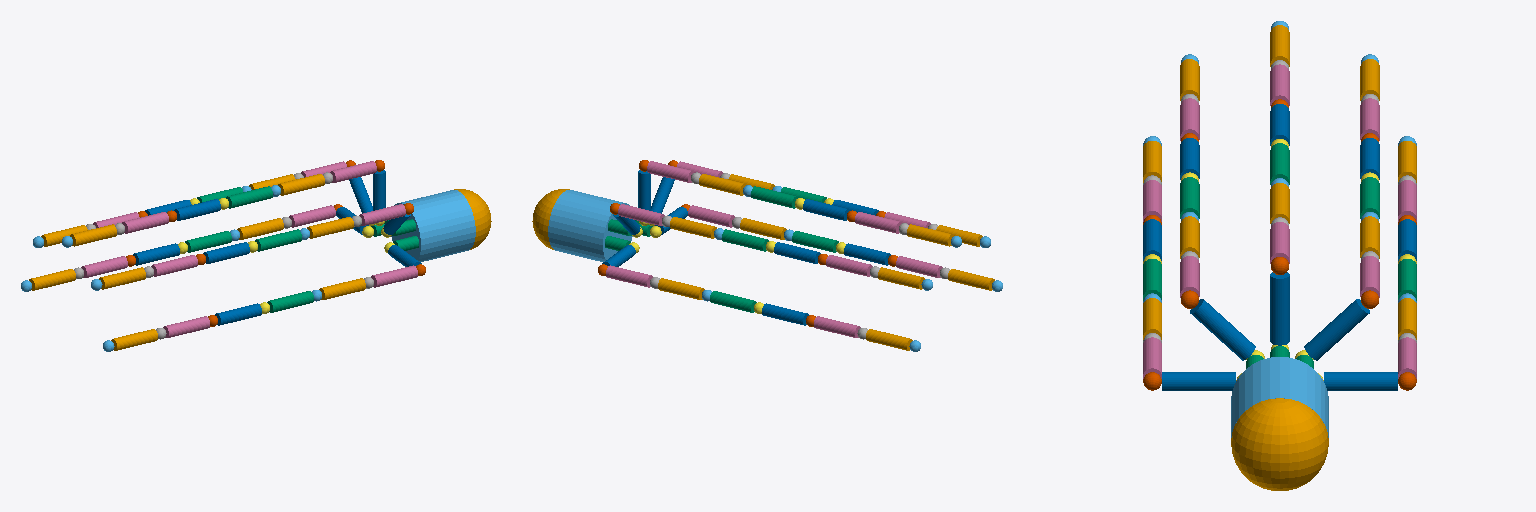
--- Facts derived from the render (not from the file) ---
3 views of the same robot in one strip: view 1: azimuth 30°, elevation 25°; view 2: azimuth 150°, elevation 25°; view 3: azimuth 270°, elevation 25° (orthographic).
Model sentinel/octopus_5_arms with 82 links and 81 joints (30 revolute, 51 fixed), rooted at eye, posed every joint at zero.
Links seen in each view (by area): view 1: head, eye, branch_01_cylinder, branch_23_cylinder, branch_33_cylinder, branch_04_cylinder, branch_36_cylinder, branch_41_cylinder, branch_26_cylinder, branch_32_cylinder, branch_43_cylinder, branch_44_cylinder (+14 smaller); view 2: head, eye, branch_13_cylinder, branch_23_cylinder, branch_41_cylinder, branch_01_cylinder, branch_16_cylinder, branch_44_cylinder, branch_03_cylinder, branch_04_cylinder, branch_12_cylinder, branch_26_cylinder (+14 smaller); view 3: eye, head, branch_10_cylinder, branch_30_cylinder, branch_20_cylinder, branch_00_cylinder, branch_40_cylinder, branch_23_cylinder, branch_26_cylinder, branch_13_cylinder, branch_16_cylinder, branch_33_cylinder (+25 smaller).
Link boxes in pixels (x1,y1,x2,y2): head: (391,190,475,261); eye: (454,189,491,249); branch_01_cylinder: (289,205,335,227); branch_23_cylinder: (226,186,272,208); branch_33_cylinder: (255,229,301,251); branch_04_cylinder: (133,243,179,265); branch_36_cylinder: (99,267,145,289); branch_41_cylinder: (371,265,417,287); branch_26_cylinder: (70,224,116,246); branch_32_cylinder: (307,217,353,238); branch_43_cylinder: (267,291,313,312); branch_44_cylinder: (215,303,261,325); head: (548,190,632,261); eye: (532,189,569,249); branch_13_cylinder: (722,229,768,251); branch_23_cylinder: (751,186,797,208); branch_41_cylinder: (688,205,734,227); branch_01_cylinder: (606,265,652,287); branch_16_cylinder: (878,267,924,289); branch_44_cylinder: (844,243,890,265); branch_03_cylinder: (710,291,756,312); branch_04_cylinder: (762,303,808,325); branch_12_cylinder: (670,217,716,238); branch_26_cylinder: (907,224,953,246); eye: (1231,398,1328,490); head: (1231,357,1328,437); branch_10_cylinder: (1304,299,1369,360); branch_30_cylinder: (1190,299,1255,360); branch_20_cylinder: (1270,272,1289,345); branch_00_cylinder: (1324,372,1397,390); branch_40_cylinder: (1162,372,1235,390); branch_23_cylinder: (1270,143,1289,184); branch_26_cylinder: (1270,25,1289,66); branch_13_cylinder: (1360,177,1379,218); branch_16_cylinder: (1360,59,1379,100); branch_33_cylinder: (1180,177,1199,218).
Bounding box of the posed robot: 1.55 × 0.56 × 0.3801 m (x, y, z).
Geometry: primitives only (box / cylinder / sphere), no mesh files.

The robot description file, URDF, robot "sentinel/octopus_5_arms":
<?xml version="1.0"?>
<robot name="sentinel/octopus_5_arms">
<link name="eye">
  <inertial>
   <mass value="1"/>
   <inertia ixx="0.004000000000000001" ixy="0" ixz="0" iyy="0.004000000000000001" iyz="0" izz="0.004000000000000001"/>
  </inertial>
  <collision>
    <origin rpy="0 0 0" xyz="0 0 0"/>
    <geometry>
      <sphere radius="0.1"/>
    </geometry>
  </collision>
  <visual>
    <origin rpy="0 0 0" xyz="0 0 0"/>
    <geometry>
      <sphere radius="0.1"/>
    </geometry>
  </visual>
</link>

 <link name="head">
  <inertial>
    <mass value="1"/>
    <inertia ixx="0.0058333333333333345" ixy="0" ixz="0" iyy="0.0058333333333333345" iyz="0" izz="0.0025000000000000005"/>
  </inertial>
  <visual>
    <origin rpy="0 1.57 0" xyz="-0.1 0 0"/>
    <geometry>
      <cylinder length="0.2" radius="0.1"/>
    </geometry>
  </visual>
  <collision>
    <origin rpy="0 1.57 0" xyz="-0.1 0 0"/>
    <geometry>
      <cylinder length="0.2" radius="0.1"/>
    </geometry>
  </collision>
 </link>

<joint name="joint_fixed_eye_head" type="fixed">
  <origin rpy="0 0 0" xyz="0 0 0"/>
  <parent link="eye"/>
  <child link="head"/>
</joint>

<!--############################################################################
branch_00
##############################################################################-->
 <link name="branch_00_cylinder_stub">
  <inertial>
    <mass value="1"/>
    <inertia ixx="0.0005687499999999999" ixy="0" ixz="0" iyy="0.0005687499999999999" iyz="0" izz="0.0001"/>
  </inertial>
  <visual>
    <origin rpy="0 1.57 0" xyz="-0.0375 0 0"/>
    <geometry>
      <cylinder length="0.075" radius="0.02"/>
    </geometry>
  </visual>
  <collision>
    <origin rpy="0 1.57 0" xyz="-0.0375 0 0"/>
    <geometry>
      <cylinder length="0.075" radius="0.02"/>
    </geometry>
  </collision>
 </link>

<joint name="joint_fixed_head_branch_00_cylinder_stub" type="fixed">
  <origin rpy="0 0 0" xyz="-0.2 0.06999999999999999 0.0"/>
  <parent link="head"/>
  <child link="branch_00_cylinder_stub"/>
</joint>

<link name="branch_00_sphere_stub">
  <inertial>
   <mass value="1"/>
   <inertia ixx="0.00014439999999999999" ixy="0" ixz="0" iyy="0.00014439999999999999" iyz="0" izz="0.00014439999999999999"/>
  </inertial>
  <collision>
    <origin rpy="0 0 0" xyz="-0.095 0 0"/>
    <geometry>
      <sphere radius="0.019"/>
    </geometry>
  </collision>
  <visual>
    <origin rpy="0 0 0" xyz="-0.095 0 0"/>
    <geometry>
      <sphere radius="0.019"/>
    </geometry>
  </visual>
</link>

<joint name="joint_fixed_branch_00_cylinder_stub_branch_00_sphere_stub" type="fixed">
  <origin rpy="0 0 0" xyz="0 0 0"/>
  <parent link="branch_00_cylinder_stub"/>
  <child link="branch_00_sphere_stub"/>
</joint>

 <link name="branch_00_cylinder">
  <inertial>
    <mass value="1"/>
    <inertia ixx="0.0019749999999999998" ixy="0" ixz="0" iyy="0.0019749999999999998" iyz="0" izz="0.0001"/>
  </inertial>
  <visual>
    <origin rpy="0 1.5707963267948966 1.57" xyz="-0.095 0.095 0.0"/>
    <geometry>
      <cylinder length="0.15" radius="0.02"/>
    </geometry>
  </visual>
  <collision>
    <origin rpy="0 1.5707963267948966 1.57" xyz="-0.095 0.095 0.0"/>
    <geometry>
      <cylinder length="0.15" radius="0.02"/>
    </geometry>
  </collision>
 </link>

<joint name="joint_fixed_branch_00_sphere_stub_branch_00_cylinder" type="fixed">
  <origin rpy="0 0 0" xyz="0 0 0"/>
  <parent link="branch_00_sphere_stub"/>
  <child link="branch_00_cylinder"/>
</joint>

<link name="branch_00">
  <inertial>
   <mass value="1"/>
   <inertia ixx="0.00014439999999999999" ixy="0" ixz="0" iyy="0.00014439999999999999" iyz="0" izz="0.00014439999999999999"/>
  </inertial>
  <collision>
    <origin rpy="0 0 0" xyz="0 0 0"/>
    <geometry>
      <sphere radius="0.019"/>
    </geometry>
  </collision>
  <visual>
    <origin rpy="0 0 0" xyz="0 0 0"/>
    <geometry>
      <sphere radius="0.019"/>
    </geometry>
  </visual>
</link>

<joint name="joint_fixed_branch_00_cylinder_branch_00" type="fixed">
  <origin rpy="0 0 0" xyz="-0.095 0.19 0.0"/>
  <parent link="branch_00_cylinder"/>
  <child link="branch_00"/>
</joint>

<!--############################################################################
branch_01
##############################################################################-->
 <link name="branch_01_cylinder">
  <inertial>
    <mass value="1"/>
    <inertia ixx="0.0019749999999999998" ixy="0" ixz="0" iyy="0.0019749999999999998" iyz="0" izz="0.0001"/>
  </inertial>
  <visual>
    <origin rpy="0 1.57 0" xyz="-0.095 0 0"/>
    <geometry>
      <cylinder length="0.15" radius="0.02"/>
    </geometry>
  </visual>
  <collision>
    <origin rpy="0 1.57 0" xyz="-0.095 0 0"/>
    <geometry>
      <cylinder length="0.15" radius="0.02"/>
    </geometry>
  </collision>
 </link>

<joint name="joint_revolute_branch_00_branch_01_cylinder_Z" type="revolute">
  <origin rpy="0 0 0" xyz="0 0 0"/>
  <parent link="branch_00"/>
  <child link="branch_01_cylinder"/>
  <axis xyz="0 0.0 -1.0"/>
  <dynamics damping="0.01" friction="0.5"/>
  <limit lower="-1.5707963267948966" upper="1.5707963267948966" effort="0.01" velocity="100"/>
</joint>

<link name="branch_01">
  <inertial>
   <mass value="1"/>
   <inertia ixx="0.00014439999999999999" ixy="0" ixz="0" iyy="0.00014439999999999999" iyz="0" izz="0.00014439999999999999"/>
  </inertial>
  <collision>
    <origin rpy="0 0 0" xyz="0 0 0"/>
    <geometry>
      <sphere radius="0.019"/>
    </geometry>
  </collision>
  <visual>
    <origin rpy="0 0 0" xyz="0 0 0"/>
    <geometry>
      <sphere radius="0.019"/>
    </geometry>
  </visual>
</link>

<joint name="joint_fixed_branch_01_cylinder_branch_01" type="fixed">
  <origin rpy="0 0 0" xyz="-0.19 0 0"/>
  <parent link="branch_01_cylinder"/>
  <child link="branch_01"/>
</joint>

<!--############################################################################
branch_02
##############################################################################-->
 <link name="branch_02_cylinder">
  <inertial>
    <mass value="1"/>
    <inertia ixx="0.0019749999999999998" ixy="0" ixz="0" iyy="0.0019749999999999998" iyz="0" izz="0.0001"/>
  </inertial>
  <visual>
    <origin rpy="0 1.57 0" xyz="-0.095 0 0"/>
    <geometry>
      <cylinder length="0.15" radius="0.02"/>
    </geometry>
  </visual>
  <collision>
    <origin rpy="0 1.57 0" xyz="-0.095 0 0"/>
    <geometry>
      <cylinder length="0.15" radius="0.02"/>
    </geometry>
  </collision>
 </link>

<joint name="joint_revolute_branch_01_branch_02_cylinder_Z" type="revolute">
  <origin rpy="0 0 0" xyz="0 0 0"/>
  <parent link="branch_01"/>
  <child link="branch_02_cylinder"/>
  <axis xyz="0 0.0 -1.0"/>
  <dynamics damping="0.01" friction="0.5"/>
  <limit lower="-1.5707963267948966" upper="1.5707963267948966" effort="0.01" velocity="100"/>
</joint>

<link name="branch_02">
  <inertial>
   <mass value="1"/>
   <inertia ixx="0.00014439999999999999" ixy="0" ixz="0" iyy="0.00014439999999999999" iyz="0" izz="0.00014439999999999999"/>
  </inertial>
  <collision>
    <origin rpy="0 0 0" xyz="0 0 0"/>
    <geometry>
      <sphere radius="0.019"/>
    </geometry>
  </collision>
  <visual>
    <origin rpy="0 0 0" xyz="0 0 0"/>
    <geometry>
      <sphere radius="0.019"/>
    </geometry>
  </visual>
</link>

<joint name="joint_fixed_branch_02_cylinder_branch_02" type="fixed">
  <origin rpy="0 0 0" xyz="-0.19 0 0"/>
  <parent link="branch_02_cylinder"/>
  <child link="branch_02"/>
</joint>

<!--############################################################################
branch_03
##############################################################################-->
 <link name="branch_03_cylinder">
  <inertial>
    <mass value="1"/>
    <inertia ixx="0.0019749999999999998" ixy="0" ixz="0" iyy="0.0019749999999999998" iyz="0" izz="0.0001"/>
  </inertial>
  <visual>
    <origin rpy="0 1.57 0" xyz="-0.095 0 0"/>
    <geometry>
      <cylinder length="0.15" radius="0.02"/>
    </geometry>
  </visual>
  <collision>
    <origin rpy="0 1.57 0" xyz="-0.095 0 0"/>
    <geometry>
      <cylinder length="0.15" radius="0.02"/>
    </geometry>
  </collision>
 </link>

<joint name="joint_revolute_branch_02_branch_03_cylinder_Z" type="revolute">
  <origin rpy="0 0 0" xyz="0 0 0"/>
  <parent link="branch_02"/>
  <child link="branch_03_cylinder"/>
  <axis xyz="0 0.0 -1.0"/>
  <dynamics damping="0.01" friction="0.5"/>
  <limit lower="-1.5707963267948966" upper="1.5707963267948966" effort="0.01" velocity="100"/>
</joint>

<link name="branch_03">
  <inertial>
   <mass value="1"/>
   <inertia ixx="0.00014439999999999999" ixy="0" ixz="0" iyy="0.00014439999999999999" iyz="0" izz="0.00014439999999999999"/>
  </inertial>
  <collision>
    <origin rpy="0 0 0" xyz="0 0 0"/>
    <geometry>
      <sphere radius="0.019"/>
    </geometry>
  </collision>
  <visual>
    <origin rpy="0 0 0" xyz="0 0 0"/>
    <geometry>
      <sphere radius="0.019"/>
    </geometry>
  </visual>
</link>

<joint name="joint_fixed_branch_03_cylinder_branch_03" type="fixed">
  <origin rpy="0 0 0" xyz="-0.19 0 0"/>
  <parent link="branch_03_cylinder"/>
  <child link="branch_03"/>
</joint>

<!--############################################################################
branch_04
##############################################################################-->
 <link name="branch_04_cylinder">
  <inertial>
    <mass value="1"/>
    <inertia ixx="0.0019749999999999998" ixy="0" ixz="0" iyy="0.0019749999999999998" iyz="0" izz="0.0001"/>
  </inertial>
  <visual>
    <origin rpy="0 1.57 0" xyz="-0.095 0 0"/>
    <geometry>
      <cylinder length="0.15" radius="0.02"/>
    </geometry>
  </visual>
  <collision>
    <origin rpy="0 1.57 0" xyz="-0.095 0 0"/>
    <geometry>
      <cylinder length="0.15" radius="0.02"/>
    </geometry>
  </collision>
 </link>

<joint name="joint_revolute_branch_03_branch_04_cylinder_Z" type="revolute">
  <origin rpy="0 0 0" xyz="0 0 0"/>
  <parent link="branch_03"/>
  <child link="branch_04_cylinder"/>
  <axis xyz="0 0.0 -1.0"/>
  <dynamics damping="0.01" friction="0.5"/>
  <limit lower="-1.5707963267948966" upper="1.5707963267948966" effort="0.01" velocity="100"/>
</joint>

<link name="branch_04">
  <inertial>
   <mass value="1"/>
   <inertia ixx="0.00014439999999999999" ixy="0" ixz="0" iyy="0.00014439999999999999" iyz="0" izz="0.00014439999999999999"/>
  </inertial>
  <collision>
    <origin rpy="0 0 0" xyz="0 0 0"/>
    <geometry>
      <sphere radius="0.019"/>
    </geometry>
  </collision>
  <visual>
    <origin rpy="0 0 0" xyz="0 0 0"/>
    <geometry>
      <sphere radius="0.019"/>
    </geometry>
  </visual>
</link>

<joint name="joint_fixed_branch_04_cylinder_branch_04" type="fixed">
  <origin rpy="0 0 0" xyz="-0.19 0 0"/>
  <parent link="branch_04_cylinder"/>
  <child link="branch_04"/>
</joint>

<!--############################################################################
branch_05
##############################################################################-->
 <link name="branch_05_cylinder">
  <inertial>
    <mass value="1"/>
    <inertia ixx="0.0019749999999999998" ixy="0" ixz="0" iyy="0.0019749999999999998" iyz="0" izz="0.0001"/>
  </inertial>
  <visual>
    <origin rpy="0 1.57 0" xyz="-0.095 0 0"/>
    <geometry>
      <cylinder length="0.15" radius="0.02"/>
    </geometry>
  </visual>
  <collision>
    <origin rpy="0 1.57 0" xyz="-0.095 0 0"/>
    <geometry>
      <cylinder length="0.15" radius="0.02"/>
    </geometry>
  </collision>
 </link>

<joint name="joint_revolute_branch_04_branch_05_cylinder_Z" type="revolute">
  <origin rpy="0 0 0" xyz="0 0 0"/>
  <parent link="branch_04"/>
  <child link="branch_05_cylinder"/>
  <axis xyz="0 0.0 -1.0"/>
  <dynamics damping="0.01" friction="0.5"/>
  <limit lower="-1.5707963267948966" upper="1.5707963267948966" effort="0.01" velocity="100"/>
</joint>

<link name="branch_05">
  <inertial>
   <mass value="1"/>
   <inertia ixx="0.00014439999999999999" ixy="0" ixz="0" iyy="0.00014439999999999999" iyz="0" izz="0.00014439999999999999"/>
  </inertial>
  <collision>
    <origin rpy="0 0 0" xyz="0 0 0"/>
    <geometry>
      <sphere radius="0.019"/>
    </geometry>
  </collision>
  <visual>
    <origin rpy="0 0 0" xyz="0 0 0"/>
    <geometry>
      <sphere radius="0.019"/>
    </geometry>
  </visual>
</link>

<joint name="joint_fixed_branch_05_cylinder_branch_05" type="fixed">
  <origin rpy="0 0 0" xyz="-0.19 0 0"/>
  <parent link="branch_05_cylinder"/>
  <child link="branch_05"/>
</joint>

<!--############################################################################
branch_06
##############################################################################-->
 <link name="branch_06_cylinder">
  <inertial>
    <mass value="1"/>
    <inertia ixx="0.0019749999999999998" ixy="0" ixz="0" iyy="0.0019749999999999998" iyz="0" izz="0.0001"/>
  </inertial>
  <visual>
    <origin rpy="0 1.57 0" xyz="-0.095 0 0"/>
    <geometry>
      <cylinder length="0.15" radius="0.02"/>
    </geometry>
  </visual>
  <collision>
    <origin rpy="0 1.57 0" xyz="-0.095 0 0"/>
    <geometry>
      <cylinder length="0.15" radius="0.02"/>
    </geometry>
  </collision>
 </link>

<joint name="joint_revolute_branch_05_branch_06_cylinder_Z" type="revolute">
  <origin rpy="0 0 0" xyz="0 0 0"/>
  <parent link="branch_05"/>
  <child link="branch_06_cylinder"/>
  <axis xyz="0 0.0 -1.0"/>
  <dynamics damping="0.01" friction="0.5"/>
  <limit lower="-1.5707963267948966" upper="1.5707963267948966" effort="0.01" velocity="100"/>
</joint>

<link name="branch_06">
  <inertial>
   <mass value="1"/>
   <inertia ixx="0.00014439999999999999" ixy="0" ixz="0" iyy="0.00014439999999999999" iyz="0" izz="0.00014439999999999999"/>
  </inertial>
  <collision>
    <origin rpy="0 0 0" xyz="0 0 0"/>
    <geometry>
      <sphere radius="0.019"/>
    </geometry>
  </collision>
  <visual>
    <origin rpy="0 0 0" xyz="0 0 0"/>
    <geometry>
      <sphere radius="0.019"/>
    </geometry>
  </visual>
</link>

<joint name="joint_fixed_branch_06_cylinder_branch_06" type="fixed">
  <origin rpy="0 0 0" xyz="-0.19 0 0"/>
  <parent link="branch_06_cylinder"/>
  <child link="branch_06"/>
</joint>

<!--############################################################################
branch_10
##############################################################################-->
 <link name="branch_10_cylinder_stub">
  <inertial>
    <mass value="1"/>
    <inertia ixx="0.0005687499999999999" ixy="0" ixz="0" iyy="0.0005687499999999999" iyz="0" izz="0.0001"/>
  </inertial>
  <visual>
    <origin rpy="0 1.57 0" xyz="-0.0375 0 0"/>
    <geometry>
      <cylinder length="0.075" radius="0.02"/>
    </geometry>
  </visual>
  <collision>
    <origin rpy="0 1.57 0" xyz="-0.0375 0 0"/>
    <geometry>
      <cylinder length="0.075" radius="0.02"/>
    </geometry>
  </collision>
 </link>

<joint name="joint_fixed_head_branch_10_cylinder_stub" type="fixed">
  <origin rpy="0 0 0" xyz="-0.2 0.049497474683058325 0.04949747468305832"/>
  <parent link="head"/>
  <child link="branch_10_cylinder_stub"/>
</joint>

<link name="branch_10_sphere_stub">
  <inertial>
   <mass value="1"/>
   <inertia ixx="0.00014439999999999999" ixy="0" ixz="0" iyy="0.00014439999999999999" iyz="0" izz="0.00014439999999999999"/>
  </inertial>
  <collision>
    <origin rpy="0 0 0" xyz="-0.095 0 0"/>
    <geometry>
      <sphere radius="0.019"/>
    </geometry>
  </collision>
  <visual>
    <origin rpy="0 0 0" xyz="-0.095 0 0"/>
    <geometry>
      <sphere radius="0.019"/>
    </geometry>
  </visual>
</link>

<joint name="joint_fixed_branch_10_cylinder_stub_branch_10_sphere_stub" type="fixed">
  <origin rpy="0 0 0" xyz="0 0 0"/>
  <parent link="branch_10_cylinder_stub"/>
  <child link="branch_10_sphere_stub"/>
</joint>

 <link name="branch_10_cylinder">
  <inertial>
    <mass value="1"/>
    <inertia ixx="0.0019749999999999998" ixy="0" ixz="0" iyy="0.0019749999999999998" iyz="0" izz="0.0001"/>
  </inertial>
  <visual>
    <origin rpy="0 0.7853981633974484 1.57" xyz="-0.095 0.06717514421272201 0.06717514421272201"/>
    <geometry>
      <cylinder length="0.15" radius="0.02"/>
    </geometry>
  </visual>
  <collision>
    <origin rpy="0 0.7853981633974484 1.57" xyz="-0.095 0.06717514421272201 0.06717514421272201"/>
    <geometry>
      <cylinder length="0.15" radius="0.02"/>
    </geometry>
  </collision>
 </link>

<joint name="joint_fixed_branch_10_sphere_stub_branch_10_cylinder" type="fixed">
  <origin rpy="0 0 0" xyz="0 0 0"/>
  <parent link="branch_10_sphere_stub"/>
  <child link="branch_10_cylinder"/>
</joint>

<link name="branch_10">
  <inertial>
   <mass value="1"/>
   <inertia ixx="0.00014439999999999999" ixy="0" ixz="0" iyy="0.00014439999999999999" iyz="0" izz="0.00014439999999999999"/>
  </inertial>
  <collision>
    <origin rpy="0 0 0" xyz="0 0 0"/>
    <geometry>
      <sphere radius="0.019"/>
    </geometry>
  </collision>
  <visual>
    <origin rpy="0 0 0" xyz="0 0 0"/>
    <geometry>
      <sphere radius="0.019"/>
    </geometry>
  </visual>
</link>

<joint name="joint_fixed_branch_10_cylinder_branch_10" type="fixed">
  <origin rpy="0 0 0" xyz="-0.095 0.13435028842544403 0.13435028842544403"/>
  <parent link="branch_10_cylinder"/>
  <child link="branch_10"/>
</joint>

<!--############################################################################
branch_11
##############################################################################-->
 <link name="branch_11_cylinder">
  <inertial>
    <mass value="1"/>
    <inertia ixx="0.0019749999999999998" ixy="0" ixz="0" iyy="0.0019749999999999998" iyz="0" izz="0.0001"/>
  </inertial>
  <visual>
    <origin rpy="0 1.57 0" xyz="-0.095 0 0"/>
    <geometry>
      <cylinder length="0.15" radius="0.02"/>
    </geometry>
  </visual>
  <collision>
    <origin rpy="0 1.57 0" xyz="-0.095 0 0"/>
    <geometry>
      <cylinder length="0.15" radius="0.02"/>
    </geometry>
  </collision>
 </link>

<joint name="joint_revolute_branch_10_branch_11_cylinder_Z" type="revolute">
  <origin rpy="0 0 0" xyz="0 0 0"/>
  <parent link="branch_10"/>
  <child link="branch_11_cylinder"/>
  <axis xyz="0 0.7071067811865475 -0.7071067811865476"/>
  <dynamics damping="0.01" friction="0.5"/>
  <limit lower="-1.5707963267948966" upper="1.5707963267948966" effort="0.01" velocity="100"/>
</joint>

<link name="branch_11">
  <inertial>
   <mass value="1"/>
   <inertia ixx="0.00014439999999999999" ixy="0" ixz="0" iyy="0.00014439999999999999" iyz="0" izz="0.00014439999999999999"/>
  </inertial>
  <collision>
    <origin rpy="0 0 0" xyz="0 0 0"/>
    <geometry>
      <sphere radius="0.019"/>
    </geometry>
  </collision>
  <visual>
    <origin rpy="0 0 0" xyz="0 0 0"/>
    <geometry>
      <sphere radius="0.019"/>
    </geometry>
  </visual>
</link>

<joint name="joint_fixed_branch_11_cylinder_branch_11" type="fixed">
  <origin rpy="0 0 0" xyz="-0.19 0 0"/>
  <parent link="branch_11_cylinder"/>
  <child link="branch_11"/>
</joint>

<!--############################################################################
branch_12
##############################################################################-->
 <link name="branch_12_cylinder">
  <inertial>
    <mass value="1"/>
    <inertia ixx="0.0019749999999999998" ixy="0" ixz="0" iyy="0.0019749999999999998" iyz="0" izz="0.0001"/>
  </inertial>
  <visual>
    <origin rpy="0 1.57 0" xyz="-0.095 0 0"/>
    <geometry>
      <cylinder length="0.15" radius="0.02"/>
    </geometry>
  </visual>
  <collision>
    <origin rpy="0 1.57 0" xyz="-0.095 0 0"/>
    <geometry>
      <cylinder length="0.15" radius="0.02"/>
    </geometry>
  </collision>
 </link>

<joint name="joint_revolute_branch_11_branch_12_cylinder_Z" type="revolute">
  <origin rpy="0 0 0" xyz="0 0 0"/>
  <parent link="branch_11"/>
  <child link="branch_12_cylinder"/>
  <axis xyz="0 0.7071067811865475 -0.7071067811865476"/>
  <dynamics damping="0.01" friction="0.5"/>
  <limit lower="-1.5707963267948966" upper="1.5707963267948966" effort="0.01" velocity="100"/>
</joint>

<link name="branch_12">
  <inertial>
   <mass value="1"/>
   <inertia ixx="0.00014439999999999999" ixy="0" ixz="0" iyy="0.00014439999999999999" iyz="0" izz="0.00014439999999999999"/>
  </inertial>
  <collision>
    <origin rpy="0 0 0" xyz="0 0 0"/>
    <geometry>
      <sphere radius="0.019"/>
    </geometry>
  </collision>
  <visual>
    <origin rpy="0 0 0" xyz="0 0 0"/>
    <geometry>
      <sphere radius="0.019"/>
    </geometry>
  </visual>
</link>

<joint name="joint_fixed_branch_12_cylinder_branch_12" type="fixed">
  <origin rpy="0 0 0" xyz="-0.19 0 0"/>
  <parent link="branch_12_cylinder"/>
  <child link="branch_12"/>
</joint>

<!--############################################################################
branch_13
##############################################################################-->
 <link name="branch_13_cylinder">
  <inertial>
    <mass value="1"/>
    <inertia ixx="0.0019749999999999998" ixy="0" ixz="0" iyy="0.0019749999999999998" iyz="0" izz="0.0001"/>
  </inertial>
  <visual>
    <origin rpy="0 1.57 0" xyz="-0.095 0 0"/>
    <geometry>
      <cylinder length="0.15" radius="0.02"/>
    </geometry>
  </visual>
  <collision>
    <origin rpy="0 1.57 0" xyz="-0.095 0 0"/>
    <geometry>
      <cylinder length="0.15" radius="0.02"/>
    </geometry>
  </collision>
 </link>

<joint name="joint_revolute_branch_12_branch_13_cylinder_Z" type="revolute">
  <origin rpy="0 0 0" xyz="0 0 0"/>
  <parent link="branch_12"/>
  <child link="branch_13_cylinder"/>
  <axis xyz="0 0.7071067811865475 -0.7071067811865476"/>
  <dynamics damping="0.01" friction="0.5"/>
  <limit lower="-1.5707963267948966" upper="1.5707963267948966" effort="0.01" velocity="100"/>
</joint>

<link name="branch_13">
  <inertial>
   <mass value="1"/>
   <inertia ixx="0.00014439999999999999" ixy="0" ixz="0" iyy="0.00014439999999999999" iyz="0" izz="0.00014439999999999999"/>
  </inertial>
  <collision>
    <origin rpy="0 0 0" xyz="0 0 0"/>
    <geometry>
      <sphere radius="0.019"/>
    </geometry>
  </collision>
  <visual>
    <origin rpy="0 0 0" xyz="0 0 0"/>
    <geometry>
      <sphere radius="0.019"/>
    </geometry>
  </visual>
</link>

<joint name="joint_fixed_branch_13_cylinder_branch_13" type="fixed">
  <origin rpy="0 0 0" xyz="-0.19 0 0"/>
  <parent link="branch_13_cylinder"/>
  <child link="branch_13"/>
</joint>

<!--############################################################################
branch_14
##############################################################################-->
 <link name="branch_14_cylinder">
  <inertial>
    <mass value="1"/>
    <inertia ixx="0.0019749999999999998" ixy="0" ixz="0" iyy="0.0019749999999999998" iyz="0" izz="0.0001"/>
  </inertial>
  <visual>
    <origin rpy="0 1.57 0" xyz="-0.095 0 0"/>
    <geometry>
      <cylinder length="0.15" radius="0.02"/>
    </geometry>
  </visual>
  <collision>
    <origin rpy="0 1.57 0" xyz="-0.095 0 0"/>
    <geometry>
      <cylinder length="0.15" radius="0.02"/>
    </geometry>
  </collision>
 </link>

<joint name="joint_revolute_branch_13_branch_14_cylinder_Z" type="revolute">
  <origin rpy="0 0 0" xyz="0 0 0"/>
  <parent link="branch_13"/>
  <child link="branch_14_cylinder"/>
  <axis xyz="0 0.7071067811865475 -0.7071067811865476"/>
  <dynamics damping="0.01" friction="0.5"/>
  <limit lower="-1.5707963267948966" upper="1.5707963267948966" effort="0.01" velocity="100"/>
</joint>

<link name="branch_14">
  <inertial>
   <mass value="1"/>
   <inertia ixx="0.00014439999999999999" ixy="0" ixz="0" iyy="0.00014439999999999999" iyz="0" izz="0.00014439999999999999"/>
  </inertial>
  <collision>
    <origin rpy="0 0 0" xyz="0 0 0"/>
    <geometry>
      <sphere radius="0.019"/>
    </geometry>
  </collision>
  <visual>
    <origin rpy="0 0 0" xyz="0 0 0"/>
    <geometry>
      <sphere radius="0.019"/>
    </geometry>
  </visual>
</link>

<joint name="joint_fixed_branch_14_cylinder_branch_14" type="fixed">
  <origin rpy="0 0 0" xyz="-0.19 0 0"/>
  <parent link="branch_14_cylinder"/>
  <child link="branch_14"/>
</joint>

<!--############################################################################
branch_15
##############################################################################-->
 <link name="branch_15_cylinder">
  <inertial>
    <mass value="1"/>
    <inertia ixx="0.0019749999999999998" ixy="0" ixz="0" iyy="0.0019749999999999998" iyz="0" izz="0.0001"/>
  </inertial>
  <visual>
    <origin rpy="0 1.57 0" xyz="-0.095 0 0"/>
    <geometry>
      <cylinder length="0.15" radius="0.02"/>
    </geometry>
  </visual>
  <collision>
    <origin rpy="0 1.57 0" xyz="-0.095 0 0"/>
    <geometry>
      <cylinder length="0.15" radius="0.02"/>
    </geometry>
  </collision>
 </link>

<joint name="joint_revolute_branch_14_branch_15_cylinder_Z" type="revolute">
  <origin rpy="0 0 0" xyz="0 0 0"/>
  <parent link="branch_14"/>
  <child link="branch_15_cylinder"/>
  <axis xyz="0 0.7071067811865475 -0.7071067811865476"/>
  <dynamics damping="0.01" friction="0.5"/>
  <limit lower="-1.5707963267948966" upper="1.5707963267948966" effort="0.01" velocity="100"/>
</joint>

<link name="branch_15">
  <inertial>
   <mass value="1"/>
   <inertia ixx="0.00014439999999999999" ixy="0" ixz="0" iyy="0.00014439999999999999" iyz="0" izz="0.00014439999999999999"/>
  </inertial>
  <collision>
    <origin rpy="0 0 0" xyz="0 0 0"/>
    <geometry>
      <sphere radius="0.019"/>
    </geometry>
  </collision>
  <visual>
    <origin rpy="0 0 0" xyz="0 0 0"/>
    <geometry>
      <sphere radius="0.019"/>
    </geometry>
  </visual>
</link>

<joint name="joint_fixed_branch_15_cylinder_branch_15" type="fixed">
  <origin rpy="0 0 0" xyz="-0.19 0 0"/>
  <parent link="branch_15_cylinder"/>
  <child link="branch_15"/>
</joint>

<!--############################################################################
branch_16
##############################################################################-->
 <link name="branch_16_cylinder">
  <inertial>
    <mass value="1"/>
    <inertia ixx="0.0019749999999999998" ixy="0" ixz="0" iyy="0.0019749999999999998" iyz="0" izz="0.0001"/>
  </inertial>
  <visual>
    <origin rpy="0 1.57 0" xyz="-0.095 0 0"/>
    <geometry>
      <cylinder length="0.15" radius="0.02"/>
    </geometry>
  </visual>
  <collision>
    <origin rpy="0 1.57 0" xyz="-0.095 0 0"/>
    <geometry>
      <cylinder length="0.15" radius="0.02"/>
    </geometry>
  </collision>
 </link>

<joint name="joint_revolute_branch_15_branch_16_cylinder_Z" type="revolute">
  <origin rpy="0 0 0" xyz="0 0 0"/>
  <parent link="branch_15"/>
  <child link="branch_16_cylinder"/>
  <axis xyz="0 0.7071067811865475 -0.7071067811865476"/>
  <dynamics damping="0.01" friction="0.5"/>
  <limit lower="-1.5707963267948966" upper="1.5707963267948966" effort="0.01" velocity="100"/>
</joint>

<link name="branch_16">
  <inertial>
   <mass value="1"/>
   <inertia ixx="0.00014439999999999999" ixy="0" ixz="0" iyy="0.00014439999999999999" iyz="0" izz="0.00014439999999999999"/>
  </inertial>
  <collision>
    <origin rpy="0 0 0" xyz="0 0 0"/>
    <geometry>
      <sphere radius="0.019"/>
    </geometry>
  </collision>
  <visual>
    <origin rpy="0 0 0" xyz="0 0 0"/>
    <geometry>
      <sphere radius="0.019"/>
    </geometry>
  </visual>
</link>

<joint name="joint_fixed_branch_16_cylinder_branch_16" type="fixed">
  <origin rpy="0 0 0" xyz="-0.19 0 0"/>
  <parent link="branch_16_cylinder"/>
  <child link="branch_16"/>
</joint>

<!--############################################################################
branch_20
##############################################################################-->
 <link name="branch_20_cylinder_stub">
  <inertial>
    <mass value="1"/>
    <inertia ixx="0.0005687499999999999" ixy="0" ixz="0" iyy="0.0005687499999999999" iyz="0" izz="0.0001"/>
  </inertial>
  <visual>
    <origin rpy="0 1.57 0" xyz="-0.0375 0 0"/>
    <geometry>
      <cylinder length="0.075" radius="0.02"/>
    </geometry>
  </visual>
  <collision>
    <origin rpy="0 1.57 0" xyz="-0.0375 0 0"/>
    <geometry>
      <cylinder length="0.075" radius="0.02"/>
    </geometry>
  </collision>
 </link>

<joint name="joint_fixed_head_branch_20_cylinder_stub" type="fixed">
  <origin rpy="0 0 0" xyz="-0.2 4.286263797015736e-18 0.06999999999999999"/>
  <parent link="head"/>
  <child link="branch_20_cylinder_stub"/>
</joint>

<link name="branch_20_sphere_stub">
  <inertial>
   <mass value="1"/>
   <inertia ixx="0.00014439999999999999" ixy="0" ixz="0" iyy="0.00014439999999999999" iyz="0" izz="0.00014439999999999999"/>
  </inertial>
  <collision>
    <origin rpy="0 0 0" xyz="-0.095 0 0"/>
    <geometry>
      <sphere radius="0.019"/>
    </geometry>
  </collision>
  <visual>
    <origin rpy="0 0 0" xyz="-0.095 0 0"/>
    <geometry>
      <sphere radius="0.019"/>
    </geometry>
  </visual>
</link>

<joint name="joint_fixed_branch_20_cylinder_stub_branch_20_sphere_stub" type="fixed">
  <origin rpy="0 0 0" xyz="0 0 0"/>
  <parent link="branch_20_cylinder_stub"/>
  <child link="branch_20_sphere_stub"/>
</joint>

 <link name="branch_20_cylinder">
  <inertial>
    <mass value="1"/>
    <inertia ixx="0.0019749999999999998" ixy="0" ixz="0" iyy="0.0019749999999999998" iyz="0" izz="0.0001"/>
  </inertial>
  <visual>
    <origin rpy="0 6.123233995736766e-17 1.57" xyz="-0.095 5.817072295949928e-18 0.095"/>
    <geometry>
      <cylinder length="0.15" radius="0.02"/>
    </geometry>
  </visual>
  <collision>
    <origin rpy="0 6.123233995736766e-17 1.57" xyz="-0.095 5.817072295949928e-18 0.095"/>
    <geometry>
      <cylinder length="0.15" radius="0.02"/>
    </geometry>
  </collision>
 </link>

<joint name="joint_fixed_branch_20_sphere_stub_branch_20_cylinder" type="fixed">
  <origin rpy="0 0 0" xyz="0 0 0"/>
  <parent link="branch_20_sphere_stub"/>
  <child link="branch_20_cylinder"/>
</joint>

<link name="branch_20">
  <inertial>
   <mass value="1"/>
   <inertia ixx="0.00014439999999999999" ixy="0" ixz="0" iyy="0.00014439999999999999" iyz="0" izz="0.00014439999999999999"/>
  </inertial>
  <collision>
    <origin rpy="0 0 0" xyz="0 0 0"/>
    <geometry>
      <sphere radius="0.019"/>
    </geometry>
  </collision>
  <visual>
    <origin rpy="0 0 0" xyz="0 0 0"/>
    <geometry>
      <sphere radius="0.019"/>
    </geometry>
  </visual>
</link>

<joint name="joint_fixed_branch_20_cylinder_branch_20" type="fixed">
  <origin rpy="0 0 0" xyz="-0.095 1.1634144591899856e-17 0.19"/>
  <parent link="branch_20_cylinder"/>
  <child link="branch_20"/>
</joint>

<!--############################################################################
branch_21
##############################################################################-->
 <link name="branch_21_cylinder">
  <inertial>
    <mass value="1"/>
    <inertia ixx="0.0019749999999999998" ixy="0" ixz="0" iyy="0.0019749999999999998" iyz="0" izz="0.0001"/>
  </inertial>
  <visual>
    <origin rpy="0 1.57 0" xyz="-0.095 0 0"/>
    <geometry>
      <cylinder length="0.15" radius="0.02"/>
    </geometry>
  </visual>
  <collision>
    <origin rpy="0 1.57 0" xyz="-0.095 0 0"/>
    <geometry>
      <cylinder length="0.15" radius="0.02"/>
    </geometry>
  </collision>
 </link>

<joint name="joint_revolute_branch_20_branch_21_cylinder_Z" type="revolute">
  <origin rpy="0 0 0" xyz="0 0 0"/>
  <parent link="branch_20"/>
  <child link="branch_21_cylinder"/>
  <axis xyz="0 1.0 -6.123233995736766e-17"/>
  <dynamics damping="0.01" friction="0.5"/>
  <limit lower="-1.5707963267948966" upper="1.5707963267948966" effort="0.01" velocity="100"/>
</joint>

<link name="branch_21">
  <inertial>
   <mass value="1"/>
   <inertia ixx="0.00014439999999999999" ixy="0" ixz="0" iyy="0.00014439999999999999" iyz="0" izz="0.00014439999999999999"/>
  </inertial>
  <collision>
    <origin rpy="0 0 0" xyz="0 0 0"/>
    <geometry>
      <sphere radius="0.019"/>
    </geometry>
  </collision>
  <visual>
    <origin rpy="0 0 0" xyz="0 0 0"/>
    <geometry>
      <sphere radius="0.019"/>
    </geometry>
  </visual>
</link>

<joint name="joint_fixed_branch_21_cylinder_branch_21" type="fixed">
  <origin rpy="0 0 0" xyz="-0.19 0 0"/>
  <parent link="branch_21_cylinder"/>
  <child link="branch_21"/>
</joint>

<!--############################################################################
branch_22
##############################################################################-->
 <link name="branch_22_cylinder">
  <inertial>
    <mass value="1"/>
    <inertia ixx="0.0019749999999999998" ixy="0" ixz="0" iyy="0.0019749999999999998" iyz="0" izz="0.0001"/>
  </inertial>
  <visual>
    <origin rpy="0 1.57 0" xyz="-0.095 0 0"/>
    <geometry>
      <cylinder length="0.15" radius="0.02"/>
    </geometry>
  </visual>
  <collision>
    <origin rpy="0 1.57 0" xyz="-0.095 0 0"/>
    <geometry>
      <cylinder length="0.15" radius="0.02"/>
    </geometry>
  </collision>
 </link>

<joint name="joint_revolute_branch_21_branch_22_cylinder_Z" type="revolute">
  <origin rpy="0 0 0" xyz="0 0 0"/>
  <parent link="branch_21"/>
  <child link="branch_22_cylinder"/>
  <axis xyz="0 1.0 -6.123233995736766e-17"/>
  <dynamics damping="0.01" friction="0.5"/>
  <limit lower="-1.5707963267948966" upper="1.5707963267948966" effort="0.01" velocity="100"/>
</joint>

<link name="branch_22">
  <inertial>
   <mass value="1"/>
   <inertia ixx="0.00014439999999999999" ixy="0" ixz="0" iyy="0.00014439999999999999" iyz="0" izz="0.00014439999999999999"/>
  </inertial>
  <collision>
    <origin rpy="0 0 0" xyz="0 0 0"/>
    <geometry>
      <sphere radius="0.019"/>
    </geometry>
  </collision>
  <visual>
    <origin rpy="0 0 0" xyz="0 0 0"/>
    <geometry>
      <sphere radius="0.019"/>
    </geometry>
  </visual>
</link>

<joint name="joint_fixed_branch_22_cylinder_branch_22" type="fixed">
  <origin rpy="0 0 0" xyz="-0.19 0 0"/>
  <parent link="branch_22_cylinder"/>
  <child link="branch_22"/>
</joint>

<!--############################################################################
branch_23
##############################################################################-->
 <link name="branch_23_cylinder">
  <inertial>
    <mass value="1"/>
    <inertia ixx="0.0019749999999999998" ixy="0" ixz="0" iyy="0.0019749999999999998" iyz="0" izz="0.0001"/>
  </inertial>
  <visual>
    <origin rpy="0 1.57 0" xyz="-0.095 0 0"/>
    <geometry>
      <cylinder length="0.15" radius="0.02"/>
    </geometry>
  </visual>
  <collision>
    <origin rpy="0 1.57 0" xyz="-0.095 0 0"/>
    <geometry>
      <cylinder length="0.15" radius="0.02"/>
    </geometry>
  </collision>
 </link>

<joint name="joint_revolute_branch_22_branch_23_cylinder_Z" type="revolute">
  <origin rpy="0 0 0" xyz="0 0 0"/>
  <parent link="branch_22"/>
  <child link="branch_23_cylinder"/>
  <axis xyz="0 1.0 -6.123233995736766e-17"/>
  <dynamics damping="0.01" friction="0.5"/>
  <limit lower="-1.5707963267948966" upper="1.5707963267948966" effort="0.01" velocity="100"/>
</joint>

<link name="branch_23">
  <inertial>
   <mass value="1"/>
   <inertia ixx="0.00014439999999999999" ixy="0" ixz="0" iyy="0.00014439999999999999" iyz="0" izz="0.00014439999999999999"/>
  </inertial>
  <collision>
    <origin rpy="0 0 0" xyz="0 0 0"/>
    <geometry>
      <sphere radius="0.019"/>
    </geometry>
  </collision>
  <visual>
    <origin rpy="0 0 0" xyz="0 0 0"/>
    <geometry>
      <sphere radius="0.019"/>
    </geometry>
  </visual>
</link>

<joint name="joint_fixed_branch_23_cylinder_branch_23" type="fixed">
  <origin rpy="0 0 0" xyz="-0.19 0 0"/>
  <parent link="branch_23_cylinder"/>
  <child link="branch_23"/>
</joint>

<!--############################################################################
branch_24
##############################################################################-->
 <link name="branch_24_cylinder">
  <inertial>
    <mass value="1"/>
    <inertia ixx="0.0019749999999999998" ixy="0" ixz="0" iyy="0.0019749999999999998" iyz="0" izz="0.0001"/>
  </inertial>
  <visual>
    <origin rpy="0 1.57 0" xyz="-0.095 0 0"/>
    <geometry>
      <cylinder length="0.15" radius="0.02"/>
    </geometry>
  </visual>
  <collision>
    <origin rpy="0 1.57 0" xyz="-0.095 0 0"/>
    <geometry>
      <cylinder length="0.15" radius="0.02"/>
    </geometry>
  </collision>
 </link>

<joint name="joint_revolute_branch_23_branch_24_cylinder_Z" type="revolute">
  <origin rpy="0 0 0" xyz="0 0 0"/>
  <parent link="branch_23"/>
  <child link="branch_24_cylinder"/>
  <axis xyz="0 1.0 -6.123233995736766e-17"/>
  <dynamics damping="0.01" friction="0.5"/>
  <limit lower="-1.5707963267948966" upper="1.5707963267948966" effort="0.01" velocity="100"/>
</joint>

<link name="branch_24">
  <inertial>
   <mass value="1"/>
   <inertia ixx="0.00014439999999999999" ixy="0" ixz="0" iyy="0.00014439999999999999" iyz="0" izz="0.00014439999999999999"/>
  </inertial>
  <collision>
    <origin rpy="0 0 0" xyz="0 0 0"/>
    <geometry>
      <sphere radius="0.019"/>
    </geometry>
  </collision>
  <visual>
    <origin rpy="0 0 0" xyz="0 0 0"/>
    <geometry>
      <sphere radius="0.019"/>
    </geometry>
  </visual>
</link>

<joint name="joint_fixed_branch_24_cylinder_branch_24" type="fixed">
  <origin rpy="0 0 0" xyz="-0.19 0 0"/>
  <parent link="branch_24_cylinder"/>
  <child link="branch_24"/>
</joint>

<!--############################################################################
branch_25
##############################################################################-->
 <link name="branch_25_cylinder">
  <inertial>
    <mass value="1"/>
    <inertia ixx="0.0019749999999999998" ixy="0" ixz="0" iyy="0.0019749999999999998" iyz="0" izz="0.0001"/>
  </inertial>
  <visual>
    <origin rpy="0 1.57 0" xyz="-0.095 0 0"/>
    <geometry>
      <cylinder length="0.15" radius="0.02"/>
    </geometry>
  </visual>
  <collision>
    <origin rpy="0 1.57 0" xyz="-0.095 0 0"/>
    <geometry>
      <cylinder length="0.15" radius="0.02"/>
    </geometry>
  </collision>
 </link>

<joint name="joint_revolute_branch_24_branch_25_cylinder_Z" type="revolute">
  <origin rpy="0 0 0" xyz="0 0 0"/>
  <parent link="branch_24"/>
  <child link="branch_25_cylinder"/>
  <axis xyz="0 1.0 -6.123233995736766e-17"/>
  <dynamics damping="0.01" friction="0.5"/>
  <limit lower="-1.5707963267948966" upper="1.5707963267948966" effort="0.01" velocity="100"/>
</joint>

<link name="branch_25">
  <inertial>
   <mass value="1"/>
   <inertia ixx="0.00014439999999999999" ixy="0" ixz="0" iyy="0.00014439999999999999" iyz="0" izz="0.00014439999999999999"/>
  </inertial>
  <collision>
    <origin rpy="0 0 0" xyz="0 0 0"/>
    <geometry>
      <sphere radius="0.019"/>
    </geometry>
  </collision>
  <visual>
    <origin rpy="0 0 0" xyz="0 0 0"/>
    <geometry>
      <sphere radius="0.019"/>
    </geometry>
  </visual>
</link>

<joint name="joint_fixed_branch_25_cylinder_branch_25" type="fixed">
  <origin rpy="0 0 0" xyz="-0.19 0 0"/>
  <parent link="branch_25_cylinder"/>
  <child link="branch_25"/>
</joint>

<!--############################################################################
branch_26
##############################################################################-->
 <link name="branch_26_cylinder">
  <inertial>
    <mass value="1"/>
    <inertia ixx="0.0019749999999999998" ixy="0" ixz="0" iyy="0.0019749999999999998" iyz="0" izz="0.0001"/>
  </inertial>
  <visual>
    <origin rpy="0 1.57 0" xyz="-0.095 0 0"/>
    <geometry>
      <cylinder length="0.15" radius="0.02"/>
    </geometry>
  </visual>
  <collision>
    <origin rpy="0 1.57 0" xyz="-0.095 0 0"/>
    <geometry>
      <cylinder length="0.15" radius="0.02"/>
    </geometry>
  </collision>
 </link>

<joint name="joint_revolute_branch_25_branch_26_cylinder_Z" type="revolute">
  <origin rpy="0 0 0" xyz="0 0 0"/>
  <parent link="branch_25"/>
  <child link="branch_26_cylinder"/>
  <axis xyz="0 1.0 -6.123233995736766e-17"/>
  <dynamics damping="0.01" friction="0.5"/>
  <limit lower="-1.5707963267948966" upper="1.5707963267948966" effort="0.01" velocity="100"/>
</joint>

<link name="branch_26">
  <inertial>
   <mass value="1"/>
   <inertia ixx="0.00014439999999999999" ixy="0" ixz="0" iyy="0.00014439999999999999" iyz="0" izz="0.00014439999999999999"/>
  </inertial>
  <collision>
    <origin rpy="0 0 0" xyz="0 0 0"/>
    <geometry>
      <sphere radius="0.019"/>
    </geometry>
  </collision>
  <visual>
    <origin rpy="0 0 0" xyz="0 0 0"/>
    <geometry>
      <sphere radius="0.019"/>
    </geometry>
  </visual>
</link>

<joint name="joint_fixed_branch_26_cylinder_branch_26" type="fixed">
  <origin rpy="0 0 0" xyz="-0.19 0 0"/>
  <parent link="branch_26_cylinder"/>
  <child link="branch_26"/>
</joint>

<!--############################################################################
branch_30
##############################################################################-->
 <link name="branch_30_cylinder_stub">
  <inertial>
    <mass value="1"/>
    <inertia ixx="0.0005687499999999999" ixy="0" ixz="0" iyy="0.0005687499999999999" iyz="0" izz="0.0001"/>
  </inertial>
  <visual>
    <origin rpy="0 1.57 0" xyz="-0.0375 0 0"/>
    <geometry>
      <cylinder length="0.075" radius="0.02"/>
    </geometry>
  </visual>
  <collision>
    <origin rpy="0 1.57 0" xyz="-0.0375 0 0"/>
    <geometry>
      <cylinder length="0.075" radius="0.02"/>
    </geometry>
  </collision>
 </link>

<joint name="joint_fixed_head_branch_30_cylinder_stub" type="fixed">
  <origin rpy="0 0 0" xyz="-0.2 -0.04949747468305832 0.049497474683058325"/>
  <parent link="head"/>
  <child link="branch_30_cylinder_stub"/>
</joint>

<link name="branch_30_sphere_stub">
  <inertial>
   <mass value="1"/>
   <inertia ixx="0.00014439999999999999" ixy="0" ixz="0" iyy="0.00014439999999999999" iyz="0" izz="0.00014439999999999999"/>
  </inertial>
  <collision>
    <origin rpy="0 0 0" xyz="-0.095 0 0"/>
    <geometry>
      <sphere radius="0.019"/>
    </geometry>
  </collision>
  <visual>
    <origin rpy="0 0 0" xyz="-0.095 0 0"/>
    <geometry>
      <sphere radius="0.019"/>
    </geometry>
  </visual>
</link>

<joint name="joint_fixed_branch_30_cylinder_stub_branch_30_sphere_stub" type="fixed">
  <origin rpy="0 0 0" xyz="0 0 0"/>
  <parent link="branch_30_cylinder_stub"/>
  <child link="branch_30_sphere_stub"/>
</joint>

 <link name="branch_30_cylinder">
  <inertial>
    <mass value="1"/>
    <inertia ixx="0.0019749999999999998" ixy="0" ixz="0" iyy="0.0019749999999999998" iyz="0" izz="0.0001"/>
  </inertial>
  <visual>
    <origin rpy="0 -0.7853981633974483 1.57" xyz="-0.095 -0.06717514421272201 0.06717514421272201"/>
    <geometry>
      <cylinder length="0.15" radius="0.02"/>
    </geometry>
  </visual>
  <collision>
    <origin rpy="0 -0.7853981633974483 1.57" xyz="-0.095 -0.06717514421272201 0.06717514421272201"/>
    <geometry>
      <cylinder length="0.15" radius="0.02"/>
    </geometry>
  </collision>
 </link>

<joint name="joint_fixed_branch_30_sphere_stub_branch_30_cylinder" type="fixed">
  <origin rpy="0 0 0" xyz="0 0 0"/>
  <parent link="branch_30_sphere_stub"/>
  <child link="branch_30_cylinder"/>
</joint>

<link name="branch_30">
  <inertial>
   <mass value="1"/>
   <inertia ixx="0.00014439999999999999" ixy="0" ixz="0" iyy="0.00014439999999999999" iyz="0" izz="0.00014439999999999999"/>
  </inertial>
  <collision>
    <origin rpy="0 0 0" xyz="0 0 0"/>
    <geometry>
      <sphere radius="0.019"/>
    </geometry>
  </collision>
  <visual>
    <origin rpy="0 0 0" xyz="0 0 0"/>
    <geometry>
      <sphere radius="0.019"/>
    </geometry>
  </visual>
</link>

<joint name="joint_fixed_branch_30_cylinder_branch_30" type="fixed">
  <origin rpy="0 0 0" xyz="-0.095 -0.13435028842544403 0.13435028842544403"/>
  <parent link="branch_30_cylinder"/>
  <child link="branch_30"/>
</joint>

<!--############################################################################
branch_31
##############################################################################-->
 <link name="branch_31_cylinder">
  <inertial>
    <mass value="1"/>
    <inertia ixx="0.0019749999999999998" ixy="0" ixz="0" iyy="0.0019749999999999998" iyz="0" izz="0.0001"/>
  </inertial>
  <visual>
    <origin rpy="0 1.57 0" xyz="-0.095 0 0"/>
    <geometry>
      <cylinder length="0.15" radius="0.02"/>
    </geometry>
  </visual>
  <collision>
    <origin rpy="0 1.57 0" xyz="-0.095 0 0"/>
    <geometry>
      <cylinder length="0.15" radius="0.02"/>
    </geometry>
  </collision>
 </link>

<joint name="joint_revolute_branch_30_branch_31_cylinder_Z" type="revolute">
  <origin rpy="0 0 0" xyz="0 0 0"/>
  <parent link="branch_30"/>
  <child link="branch_31_cylinder"/>
  <axis xyz="0 0.7071067811865476 0.7071067811865475"/>
  <dynamics damping="0.01" friction="0.5"/>
  <limit lower="-1.5707963267948966" upper="1.5707963267948966" effort="0.01" velocity="100"/>
</joint>

<link name="branch_31">
  <inertial>
   <mass value="1"/>
   <inertia ixx="0.00014439999999999999" ixy="0" ixz="0" iyy="0.00014439999999999999" iyz="0" izz="0.00014439999999999999"/>
  </inertial>
  <collision>
    <origin rpy="0 0 0" xyz="0 0 0"/>
    <geometry>
      <sphere radius="0.019"/>
    </geometry>
  </collision>
  <visual>
    <origin rpy="0 0 0" xyz="0 0 0"/>
    <geometry>
      <sphere radius="0.019"/>
    </geometry>
  </visual>
</link>

<joint name="joint_fixed_branch_31_cylinder_branch_31" type="fixed">
  <origin rpy="0 0 0" xyz="-0.19 0 0"/>
  <parent link="branch_31_cylinder"/>
  <child link="branch_31"/>
</joint>

<!--############################################################################
branch_32
##############################################################################-->
 <link name="branch_32_cylinder">
  <inertial>
    <mass value="1"/>
    <inertia ixx="0.0019749999999999998" ixy="0" ixz="0" iyy="0.0019749999999999998" iyz="0" izz="0.0001"/>
  </inertial>
  <visual>
    <origin rpy="0 1.57 0" xyz="-0.095 0 0"/>
    <geometry>
      <cylinder length="0.15" radius="0.02"/>
    </geometry>
  </visual>
  <collision>
    <origin rpy="0 1.57 0" xyz="-0.095 0 0"/>
    <geometry>
      <cylinder length="0.15" radius="0.02"/>
    </geometry>
  </collision>
 </link>

<joint name="joint_revolute_branch_31_branch_32_cylinder_Z" type="revolute">
  <origin rpy="0 0 0" xyz="0 0 0"/>
  <parent link="branch_31"/>
  <child link="branch_32_cylinder"/>
  <axis xyz="0 0.7071067811865476 0.7071067811865475"/>
  <dynamics damping="0.01" friction="0.5"/>
  <limit lower="-1.5707963267948966" upper="1.5707963267948966" effort="0.01" velocity="100"/>
</joint>

<link name="branch_32">
  <inertial>
   <mass value="1"/>
   <inertia ixx="0.00014439999999999999" ixy="0" ixz="0" iyy="0.00014439999999999999" iyz="0" izz="0.00014439999999999999"/>
  </inertial>
  <collision>
    <origin rpy="0 0 0" xyz="0 0 0"/>
    <geometry>
      <sphere radius="0.019"/>
    </geometry>
  </collision>
  <visual>
    <origin rpy="0 0 0" xyz="0 0 0"/>
    <geometry>
      <sphere radius="0.019"/>
    </geometry>
  </visual>
</link>

<joint name="joint_fixed_branch_32_cylinder_branch_32" type="fixed">
  <origin rpy="0 0 0" xyz="-0.19 0 0"/>
  <parent link="branch_32_cylinder"/>
  <child link="branch_32"/>
</joint>

<!--############################################################################
branch_33
##############################################################################-->
 <link name="branch_33_cylinder">
  <inertial>
    <mass value="1"/>
    <inertia ixx="0.0019749999999999998" ixy="0" ixz="0" iyy="0.0019749999999999998" iyz="0" izz="0.0001"/>
  </inertial>
  <visual>
    <origin rpy="0 1.57 0" xyz="-0.095 0 0"/>
    <geometry>
      <cylinder length="0.15" radius="0.02"/>
    </geometry>
  </visual>
  <collision>
    <origin rpy="0 1.57 0" xyz="-0.095 0 0"/>
    <geometry>
      <cylinder length="0.15" radius="0.02"/>
    </geometry>
  </collision>
 </link>

<joint name="joint_revolute_branch_32_branch_33_cylinder_Z" type="revolute">
  <origin rpy="0 0 0" xyz="0 0 0"/>
  <parent link="branch_32"/>
  <child link="branch_33_cylinder"/>
  <axis xyz="0 0.7071067811865476 0.7071067811865475"/>
  <dynamics damping="0.01" friction="0.5"/>
  <limit lower="-1.5707963267948966" upper="1.5707963267948966" effort="0.01" velocity="100"/>
</joint>

<link name="branch_33">
  <inertial>
   <mass value="1"/>
   <inertia ixx="0.00014439999999999999" ixy="0" ixz="0" iyy="0.00014439999999999999" iyz="0" izz="0.00014439999999999999"/>
  </inertial>
  <collision>
    <origin rpy="0 0 0" xyz="0 0 0"/>
    <geometry>
      <sphere radius="0.019"/>
    </geometry>
  </collision>
  <visual>
    <origin rpy="0 0 0" xyz="0 0 0"/>
    <geometry>
      <sphere radius="0.019"/>
    </geometry>
  </visual>
</link>

<joint name="joint_fixed_branch_33_cylinder_branch_33" type="fixed">
  <origin rpy="0 0 0" xyz="-0.19 0 0"/>
  <parent link="branch_33_cylinder"/>
  <child link="branch_33"/>
</joint>

<!--############################################################################
branch_34
##############################################################################-->
 <link name="branch_34_cylinder">
  <inertial>
    <mass value="1"/>
    <inertia ixx="0.0019749999999999998" ixy="0" ixz="0" iyy="0.0019749999999999998" iyz="0" izz="0.0001"/>
  </inertial>
  <visual>
    <origin rpy="0 1.57 0" xyz="-0.095 0 0"/>
    <geometry>
      <cylinder length="0.15" radius="0.02"/>
    </geometry>
  </visual>
  <collision>
    <origin rpy="0 1.57 0" xyz="-0.095 0 0"/>
    <geometry>
      <cylinder length="0.15" radius="0.02"/>
    </geometry>
  </collision>
 </link>

<joint name="joint_revolute_branch_33_branch_34_cylinder_Z" type="revolute">
  <origin rpy="0 0 0" xyz="0 0 0"/>
  <parent link="branch_33"/>
  <child link="branch_34_cylinder"/>
  <axis xyz="0 0.7071067811865476 0.7071067811865475"/>
  <dynamics damping="0.01" friction="0.5"/>
  <limit lower="-1.5707963267948966" upper="1.5707963267948966" effort="0.01" velocity="100"/>
</joint>

<link name="branch_34">
  <inertial>
   <mass value="1"/>
   <inertia ixx="0.00014439999999999999" ixy="0" ixz="0" iyy="0.00014439999999999999" iyz="0" izz="0.00014439999999999999"/>
  </inertial>
  <collision>
    <origin rpy="0 0 0" xyz="0 0 0"/>
    <geometry>
      <sphere radius="0.019"/>
    </geometry>
  </collision>
  <visual>
    <origin rpy="0 0 0" xyz="0 0 0"/>
    <geometry>
      <sphere radius="0.019"/>
    </geometry>
  </visual>
</link>

<joint name="joint_fixed_branch_34_cylinder_branch_34" type="fixed">
  <origin rpy="0 0 0" xyz="-0.19 0 0"/>
  <parent link="branch_34_cylinder"/>
  <child link="branch_34"/>
</joint>

<!--############################################################################
branch_35
##############################################################################-->
 <link name="branch_35_cylinder">
  <inertial>
    <mass value="1"/>
    <inertia ixx="0.0019749999999999998" ixy="0" ixz="0" iyy="0.0019749999999999998" iyz="0" izz="0.0001"/>
  </inertial>
  <visual>
    <origin rpy="0 1.57 0" xyz="-0.095 0 0"/>
    <geometry>
      <cylinder length="0.15" radius="0.02"/>
    </geometry>
  </visual>
  <collision>
    <origin rpy="0 1.57 0" xyz="-0.095 0 0"/>
    <geometry>
      <cylinder length="0.15" radius="0.02"/>
    </geometry>
  </collision>
 </link>

<joint name="joint_revolute_branch_34_branch_35_cylinder_Z" type="revolute">
  <origin rpy="0 0 0" xyz="0 0 0"/>
  <parent link="branch_34"/>
  <child link="branch_35_cylinder"/>
  <axis xyz="0 0.7071067811865476 0.7071067811865475"/>
  <dynamics damping="0.01" friction="0.5"/>
  <limit lower="-1.5707963267948966" upper="1.5707963267948966" effort="0.01" velocity="100"/>
</joint>

<link name="branch_35">
  <inertial>
   <mass value="1"/>
   <inertia ixx="0.00014439999999999999" ixy="0" ixz="0" iyy="0.00014439999999999999" iyz="0" izz="0.00014439999999999999"/>
  </inertial>
  <collision>
    <origin rpy="0 0 0" xyz="0 0 0"/>
    <geometry>
      <sphere radius="0.019"/>
    </geometry>
  </collision>
  <visual>
    <origin rpy="0 0 0" xyz="0 0 0"/>
    <geometry>
      <sphere radius="0.019"/>
    </geometry>
  </visual>
</link>

<joint name="joint_fixed_branch_35_cylinder_branch_35" type="fixed">
  <origin rpy="0 0 0" xyz="-0.19 0 0"/>
  <parent link="branch_35_cylinder"/>
  <child link="branch_35"/>
</joint>

<!--############################################################################
branch_36
##############################################################################-->
 <link name="branch_36_cylinder">
  <inertial>
    <mass value="1"/>
    <inertia ixx="0.0019749999999999998" ixy="0" ixz="0" iyy="0.0019749999999999998" iyz="0" izz="0.0001"/>
  </inertial>
  <visual>
    <origin rpy="0 1.57 0" xyz="-0.095 0 0"/>
    <geometry>
      <cylinder length="0.15" radius="0.02"/>
    </geometry>
  </visual>
  <collision>
    <origin rpy="0 1.57 0" xyz="-0.095 0 0"/>
    <geometry>
      <cylinder length="0.15" radius="0.02"/>
    </geometry>
  </collision>
 </link>

<joint name="joint_revolute_branch_35_branch_36_cylinder_Z" type="revolute">
  <origin rpy="0 0 0" xyz="0 0 0"/>
  <parent link="branch_35"/>
  <child link="branch_36_cylinder"/>
  <axis xyz="0 0.7071067811865476 0.7071067811865475"/>
  <dynamics damping="0.01" friction="0.5"/>
  <limit lower="-1.5707963267948966" upper="1.5707963267948966" effort="0.01" velocity="100"/>
</joint>

<link name="branch_36">
  <inertial>
   <mass value="1"/>
   <inertia ixx="0.00014439999999999999" ixy="0" ixz="0" iyy="0.00014439999999999999" iyz="0" izz="0.00014439999999999999"/>
  </inertial>
  <collision>
    <origin rpy="0 0 0" xyz="0 0 0"/>
    <geometry>
      <sphere radius="0.019"/>
    </geometry>
  </collision>
  <visual>
    <origin rpy="0 0 0" xyz="0 0 0"/>
    <geometry>
      <sphere radius="0.019"/>
    </geometry>
  </visual>
</link>

<joint name="joint_fixed_branch_36_cylinder_branch_36" type="fixed">
  <origin rpy="0 0 0" xyz="-0.19 0 0"/>
  <parent link="branch_36_cylinder"/>
  <child link="branch_36"/>
</joint>

<!--############################################################################
branch_40
##############################################################################-->
 <link name="branch_40_cylinder_stub">
  <inertial>
    <mass value="1"/>
    <inertia ixx="0.0005687499999999999" ixy="0" ixz="0" iyy="0.0005687499999999999" iyz="0" izz="0.0001"/>
  </inertial>
  <visual>
    <origin rpy="0 1.57 0" xyz="-0.0375 0 0"/>
    <geometry>
      <cylinder length="0.075" radius="0.02"/>
    </geometry>
  </visual>
  <collision>
    <origin rpy="0 1.57 0" xyz="-0.0375 0 0"/>
    <geometry>
      <cylinder length="0.075" radius="0.02"/>
    </geometry>
  </collision>
 </link>

<joint name="joint_fixed_head_branch_40_cylinder_stub" type="fixed">
  <origin rpy="0 0 0" xyz="-0.2 -0.06999999999999999 8.572527594031472e-18"/>
  <parent link="head"/>
  <child link="branch_40_cylinder_stub"/>
</joint>

<link name="branch_40_sphere_stub">
  <inertial>
   <mass value="1"/>
   <inertia ixx="0.00014439999999999999" ixy="0" ixz="0" iyy="0.00014439999999999999" iyz="0" izz="0.00014439999999999999"/>
  </inertial>
  <collision>
    <origin rpy="0 0 0" xyz="-0.095 0 0"/>
    <geometry>
      <sphere radius="0.019"/>
    </geometry>
  </collision>
  <visual>
    <origin rpy="0 0 0" xyz="-0.095 0 0"/>
    <geometry>
      <sphere radius="0.019"/>
    </geometry>
  </visual>
</link>

<joint name="joint_fixed_branch_40_cylinder_stub_branch_40_sphere_stub" type="fixed">
  <origin rpy="0 0 0" xyz="0 0 0"/>
  <parent link="branch_40_cylinder_stub"/>
  <child link="branch_40_sphere_stub"/>
</joint>

 <link name="branch_40_cylinder">
  <inertial>
    <mass value="1"/>
    <inertia ixx="0.0019749999999999998" ixy="0" ixz="0" iyy="0.0019749999999999998" iyz="0" izz="0.0001"/>
  </inertial>
  <visual>
    <origin rpy="0 -1.5707963267948966 1.57" xyz="-0.095 -0.095 1.1634144591899856e-17"/>
    <geometry>
      <cylinder length="0.15" radius="0.02"/>
    </geometry>
  </visual>
  <collision>
    <origin rpy="0 -1.5707963267948966 1.57" xyz="-0.095 -0.095 1.1634144591899856e-17"/>
    <geometry>
      <cylinder length="0.15" radius="0.02"/>
    </geometry>
  </collision>
 </link>

<joint name="joint_fixed_branch_40_sphere_stub_branch_40_cylinder" type="fixed">
  <origin rpy="0 0 0" xyz="0 0 0"/>
  <parent link="branch_40_sphere_stub"/>
  <child link="branch_40_cylinder"/>
</joint>

<link name="branch_40">
  <inertial>
   <mass value="1"/>
   <inertia ixx="0.00014439999999999999" ixy="0" ixz="0" iyy="0.00014439999999999999" iyz="0" izz="0.00014439999999999999"/>
  </inertial>
  <collision>
    <origin rpy="0 0 0" xyz="0 0 0"/>
    <geometry>
      <sphere radius="0.019"/>
    </geometry>
  </collision>
  <visual>
    <origin rpy="0 0 0" xyz="0 0 0"/>
    <geometry>
      <sphere radius="0.019"/>
    </geometry>
  </visual>
</link>

<joint name="joint_fixed_branch_40_cylinder_branch_40" type="fixed">
  <origin rpy="0 0 0" xyz="-0.095 -0.19 2.3268289183799712e-17"/>
  <parent link="branch_40_cylinder"/>
  <child link="branch_40"/>
</joint>

<!--############################################################################
branch_41
##############################################################################-->
 <link name="branch_41_cylinder">
  <inertial>
    <mass value="1"/>
    <inertia ixx="0.0019749999999999998" ixy="0" ixz="0" iyy="0.0019749999999999998" iyz="0" izz="0.0001"/>
  </inertial>
  <visual>
    <origin rpy="0 1.57 0" xyz="-0.095 0 0"/>
    <geometry>
      <cylinder length="0.15" radius="0.02"/>
    </geometry>
  </visual>
  <collision>
    <origin rpy="0 1.57 0" xyz="-0.095 0 0"/>
    <geometry>
      <cylinder length="0.15" radius="0.02"/>
    </geometry>
  </collision>
 </link>

<joint name="joint_revolute_branch_40_branch_41_cylinder_Z" type="revolute">
  <origin rpy="0 0 0" xyz="0 0 0"/>
  <parent link="branch_40"/>
  <child link="branch_41_cylinder"/>
  <axis xyz="0 1.2246467991473532e-16 1.0"/>
  <dynamics damping="0.01" friction="0.5"/>
  <limit lower="-1.5707963267948966" upper="1.5707963267948966" effort="0.01" velocity="100"/>
</joint>

<link name="branch_41">
  <inertial>
   <mass value="1"/>
   <inertia ixx="0.00014439999999999999" ixy="0" ixz="0" iyy="0.00014439999999999999" iyz="0" izz="0.00014439999999999999"/>
  </inertial>
  <collision>
    <origin rpy="0 0 0" xyz="0 0 0"/>
    <geometry>
      <sphere radius="0.019"/>
    </geometry>
  </collision>
  <visual>
    <origin rpy="0 0 0" xyz="0 0 0"/>
    <geometry>
      <sphere radius="0.019"/>
    </geometry>
  </visual>
</link>

<joint name="joint_fixed_branch_41_cylinder_branch_41" type="fixed">
  <origin rpy="0 0 0" xyz="-0.19 0 0"/>
  <parent link="branch_41_cylinder"/>
  <child link="branch_41"/>
</joint>

<!--############################################################################
branch_42
##############################################################################-->
 <link name="branch_42_cylinder">
  <inertial>
    <mass value="1"/>
    <inertia ixx="0.0019749999999999998" ixy="0" ixz="0" iyy="0.0019749999999999998" iyz="0" izz="0.0001"/>
  </inertial>
  <visual>
    <origin rpy="0 1.57 0" xyz="-0.095 0 0"/>
    <geometry>
      <cylinder length="0.15" radius="0.02"/>
    </geometry>
  </visual>
  <collision>
    <origin rpy="0 1.57 0" xyz="-0.095 0 0"/>
    <geometry>
      <cylinder length="0.15" radius="0.02"/>
    </geometry>
  </collision>
 </link>

<joint name="joint_revolute_branch_41_branch_42_cylinder_Z" type="revolute">
  <origin rpy="0 0 0" xyz="0 0 0"/>
  <parent link="branch_41"/>
  <child link="branch_42_cylinder"/>
  <axis xyz="0 1.2246467991473532e-16 1.0"/>
  <dynamics damping="0.01" friction="0.5"/>
  <limit lower="-1.5707963267948966" upper="1.5707963267948966" effort="0.01" velocity="100"/>
</joint>

<link name="branch_42">
  <inertial>
   <mass value="1"/>
   <inertia ixx="0.00014439999999999999" ixy="0" ixz="0" iyy="0.00014439999999999999" iyz="0" izz="0.00014439999999999999"/>
  </inertial>
  <collision>
    <origin rpy="0 0 0" xyz="0 0 0"/>
    <geometry>
      <sphere radius="0.019"/>
    </geometry>
  </collision>
  <visual>
    <origin rpy="0 0 0" xyz="0 0 0"/>
    <geometry>
      <sphere radius="0.019"/>
    </geometry>
  </visual>
</link>

<joint name="joint_fixed_branch_42_cylinder_branch_42" type="fixed">
  <origin rpy="0 0 0" xyz="-0.19 0 0"/>
  <parent link="branch_42_cylinder"/>
  <child link="branch_42"/>
</joint>

<!--############################################################################
branch_43
##############################################################################-->
 <link name="branch_43_cylinder">
  <inertial>
    <mass value="1"/>
    <inertia ixx="0.0019749999999999998" ixy="0" ixz="0" iyy="0.0019749999999999998" iyz="0" izz="0.0001"/>
  </inertial>
  <visual>
    <origin rpy="0 1.57 0" xyz="-0.095 0 0"/>
    <geometry>
      <cylinder length="0.15" radius="0.02"/>
    </geometry>
  </visual>
  <collision>
    <origin rpy="0 1.57 0" xyz="-0.095 0 0"/>
    <geometry>
      <cylinder length="0.15" radius="0.02"/>
    </geometry>
  </collision>
 </link>

<joint name="joint_revolute_branch_42_branch_43_cylinder_Z" type="revolute">
  <origin rpy="0 0 0" xyz="0 0 0"/>
  <parent link="branch_42"/>
  <child link="branch_43_cylinder"/>
  <axis xyz="0 1.2246467991473532e-16 1.0"/>
  <dynamics damping="0.01" friction="0.5"/>
  <limit lower="-1.5707963267948966" upper="1.5707963267948966" effort="0.01" velocity="100"/>
</joint>

<link name="branch_43">
  <inertial>
   <mass value="1"/>
   <inertia ixx="0.00014439999999999999" ixy="0" ixz="0" iyy="0.00014439999999999999" iyz="0" izz="0.00014439999999999999"/>
  </inertial>
  <collision>
    <origin rpy="0 0 0" xyz="0 0 0"/>
    <geometry>
      <sphere radius="0.019"/>
    </geometry>
  </collision>
  <visual>
    <origin rpy="0 0 0" xyz="0 0 0"/>
    <geometry>
      <sphere radius="0.019"/>
    </geometry>
  </visual>
</link>

<joint name="joint_fixed_branch_43_cylinder_branch_43" type="fixed">
  <origin rpy="0 0 0" xyz="-0.19 0 0"/>
  <parent link="branch_43_cylinder"/>
  <child link="branch_43"/>
</joint>

<!--############################################################################
branch_44
##############################################################################-->
 <link name="branch_44_cylinder">
  <inertial>
    <mass value="1"/>
    <inertia ixx="0.0019749999999999998" ixy="0" ixz="0" iyy="0.0019749999999999998" iyz="0" izz="0.0001"/>
  </inertial>
  <visual>
    <origin rpy="0 1.57 0" xyz="-0.095 0 0"/>
    <geometry>
      <cylinder length="0.15" radius="0.02"/>
    </geometry>
  </visual>
  <collision>
    <origin rpy="0 1.57 0" xyz="-0.095 0 0"/>
    <geometry>
      <cylinder length="0.15" radius="0.02"/>
    </geometry>
  </collision>
 </link>

<joint name="joint_revolute_branch_43_branch_44_cylinder_Z" type="revolute">
  <origin rpy="0 0 0" xyz="0 0 0"/>
  <parent link="branch_43"/>
  <child link="branch_44_cylinder"/>
  <axis xyz="0 1.2246467991473532e-16 1.0"/>
  <dynamics damping="0.01" friction="0.5"/>
  <limit lower="-1.5707963267948966" upper="1.5707963267948966" effort="0.01" velocity="100"/>
</joint>

<link name="branch_44">
  <inertial>
   <mass value="1"/>
   <inertia ixx="0.00014439999999999999" ixy="0" ixz="0" iyy="0.00014439999999999999" iyz="0" izz="0.00014439999999999999"/>
  </inertial>
  <collision>
    <origin rpy="0 0 0" xyz="0 0 0"/>
    <geometry>
      <sphere radius="0.019"/>
    </geometry>
  </collision>
  <visual>
    <origin rpy="0 0 0" xyz="0 0 0"/>
    <geometry>
      <sphere radius="0.019"/>
    </geometry>
  </visual>
</link>

<joint name="joint_fixed_branch_44_cylinder_branch_44" type="fixed">
  <origin rpy="0 0 0" xyz="-0.19 0 0"/>
  <parent link="branch_44_cylinder"/>
  <child link="branch_44"/>
</joint>

<!--############################################################################
branch_45
##############################################################################-->
 <link name="branch_45_cylinder">
  <inertial>
    <mass value="1"/>
    <inertia ixx="0.0019749999999999998" ixy="0" ixz="0" iyy="0.0019749999999999998" iyz="0" izz="0.0001"/>
  </inertial>
  <visual>
    <origin rpy="0 1.57 0" xyz="-0.095 0 0"/>
    <geometry>
      <cylinder length="0.15" radius="0.02"/>
    </geometry>
  </visual>
  <collision>
    <origin rpy="0 1.57 0" xyz="-0.095 0 0"/>
    <geometry>
      <cylinder length="0.15" radius="0.02"/>
    </geometry>
  </collision>
 </link>

<joint name="joint_revolute_branch_44_branch_45_cylinder_Z" type="revolute">
  <origin rpy="0 0 0" xyz="0 0 0"/>
  <parent link="branch_44"/>
  <child link="branch_45_cylinder"/>
  <axis xyz="0 1.2246467991473532e-16 1.0"/>
  <dynamics damping="0.01" friction="0.5"/>
  <limit lower="-1.5707963267948966" upper="1.5707963267948966" effort="0.01" velocity="100"/>
</joint>

<link name="branch_45">
  <inertial>
   <mass value="1"/>
   <inertia ixx="0.00014439999999999999" ixy="0" ixz="0" iyy="0.00014439999999999999" iyz="0" izz="0.00014439999999999999"/>
  </inertial>
  <collision>
    <origin rpy="0 0 0" xyz="0 0 0"/>
    <geometry>
      <sphere radius="0.019"/>
    </geometry>
  </collision>
  <visual>
    <origin rpy="0 0 0" xyz="0 0 0"/>
    <geometry>
      <sphere radius="0.019"/>
    </geometry>
  </visual>
</link>

<joint name="joint_fixed_branch_45_cylinder_branch_45" type="fixed">
  <origin rpy="0 0 0" xyz="-0.19 0 0"/>
  <parent link="branch_45_cylinder"/>
  <child link="branch_45"/>
</joint>

<!--############################################################################
branch_46
##############################################################################-->
 <link name="branch_46_cylinder">
  <inertial>
    <mass value="1"/>
    <inertia ixx="0.0019749999999999998" ixy="0" ixz="0" iyy="0.0019749999999999998" iyz="0" izz="0.0001"/>
  </inertial>
  <visual>
    <origin rpy="0 1.57 0" xyz="-0.095 0 0"/>
    <geometry>
      <cylinder length="0.15" radius="0.02"/>
    </geometry>
  </visual>
  <collision>
    <origin rpy="0 1.57 0" xyz="-0.095 0 0"/>
    <geometry>
      <cylinder length="0.15" radius="0.02"/>
    </geometry>
  </collision>
 </link>

<joint name="joint_revolute_branch_45_branch_46_cylinder_Z" type="revolute">
  <origin rpy="0 0 0" xyz="0 0 0"/>
  <parent link="branch_45"/>
  <child link="branch_46_cylinder"/>
  <axis xyz="0 1.2246467991473532e-16 1.0"/>
  <dynamics damping="0.01" friction="0.5"/>
  <limit lower="-1.5707963267948966" upper="1.5707963267948966" effort="0.01" velocity="100"/>
</joint>

<link name="branch_46">
  <inertial>
   <mass value="1"/>
   <inertia ixx="0.00014439999999999999" ixy="0" ixz="0" iyy="0.00014439999999999999" iyz="0" izz="0.00014439999999999999"/>
  </inertial>
  <collision>
    <origin rpy="0 0 0" xyz="0 0 0"/>
    <geometry>
      <sphere radius="0.019"/>
    </geometry>
  </collision>
  <visual>
    <origin rpy="0 0 0" xyz="0 0 0"/>
    <geometry>
      <sphere radius="0.019"/>
    </geometry>
  </visual>
</link>

<joint name="joint_fixed_branch_46_cylinder_branch_46" type="fixed">
  <origin rpy="0 0 0" xyz="-0.19 0 0"/>
  <parent link="branch_46_cylinder"/>
  <child link="branch_46"/>
</joint>

  <klampt package_root="../../.." default_acc_max="4" >
  </klampt>
</robot>
